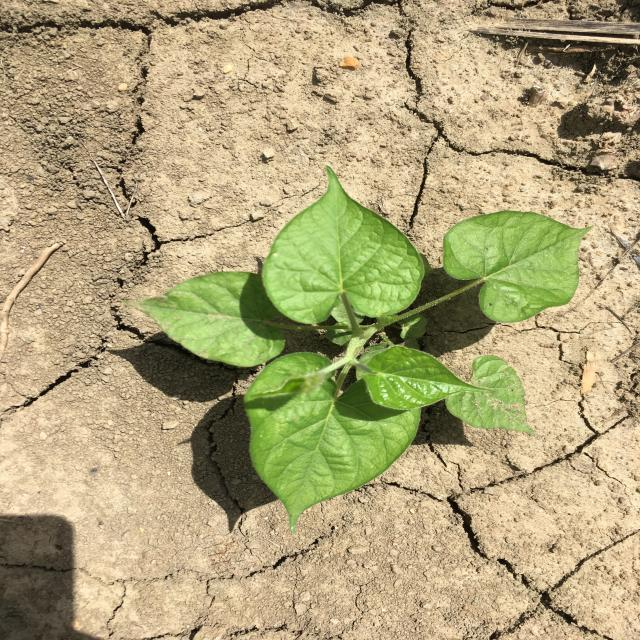MorningGlory: (123, 166, 595, 533)
